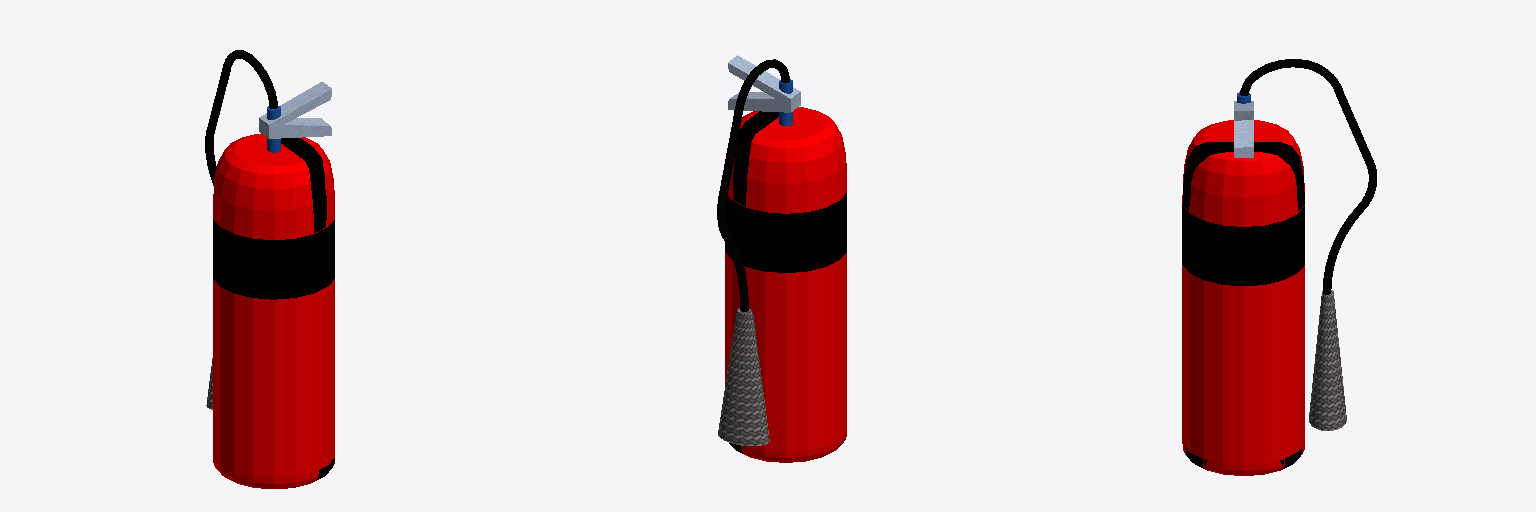
3 views of the same model, side by side, from view 1: azimuth 30°, elevation 25°; view 2: azimuth 150°, elevation 25°; view 3: azimuth 270°, elevation 25° (orthographic).
Visible parts, largest first — view 1: Cylinder001, Box001, Line001; view 2: Cylinder001, Cone001, Line001, Box001; view 3: Cylinder001, Cone001, Line001, Box001.
Boxes of the visible parts, x1=… form: Cylinder001: x1=213, y1=133, x2=334, y2=488; Box001: x1=259, y1=82, x2=331, y2=138; Line001: x1=205, y1=50, x2=277, y2=185; Cylinder001: x1=725, y1=107, x2=846, y2=462; Cone001: x1=718, y1=308, x2=769, y2=445; Line001: x1=717, y1=59, x2=789, y2=311; Box001: x1=728, y1=55, x2=800, y2=112; Cylinder001: x1=1182, y1=120, x2=1304, y2=475; Cone001: x1=1309, y1=290, x2=1346, y2=430; Line001: x1=1240, y1=59, x2=1376, y2=294; Box001: x1=1234, y1=101, x2=1253, y2=157.
Size of the model in its own units: 0.3565 by 1.25 by 0.5584.
4 materials, 3 textured.